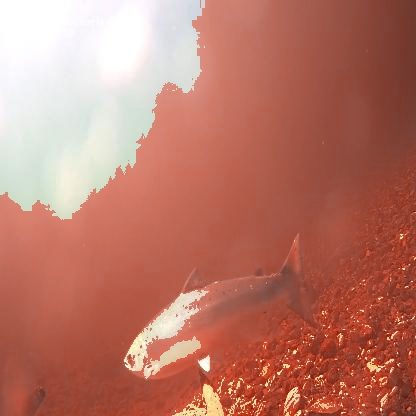salmon: (119, 230, 320, 384)
